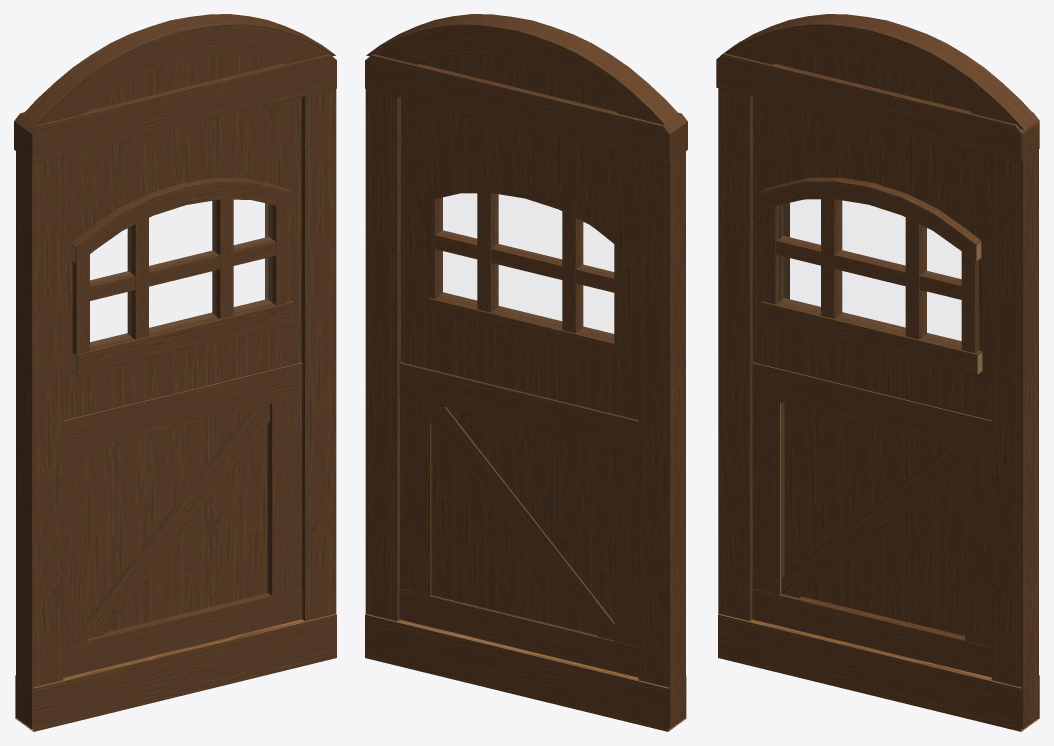
File: Door_1_Round.gltf
3 renders of one model, left to right at view 1: azimuth 30°, elevation 25°; view 2: azimuth 150°, elevation 25°; view 3: azimuth 330°, elevation 25°, orthographic.
Visible parts, largest first — view 1: Door_1_Round; view 2: Door_1_Round; view 3: Door_1_Round.
Part boxes in pixels (box(x1,y1,x2,y2)): Door_1_Round: box(14, 14, 336, 731); Door_1_Round: box(365, 14, 687, 731); Door_1_Round: box(716, 14, 1039, 731).
Size of the model in its own units: 1.12 by 2.32 by 0.1207.
2 materials, 1 textured.
